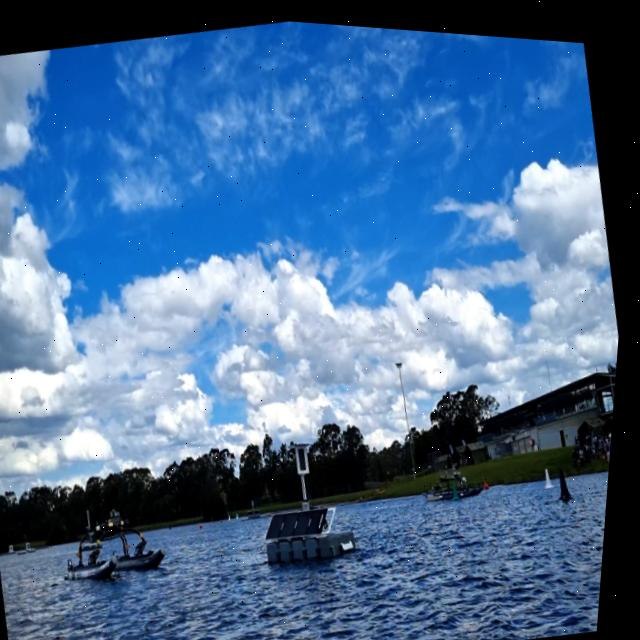led: (301, 441, 317, 469)
